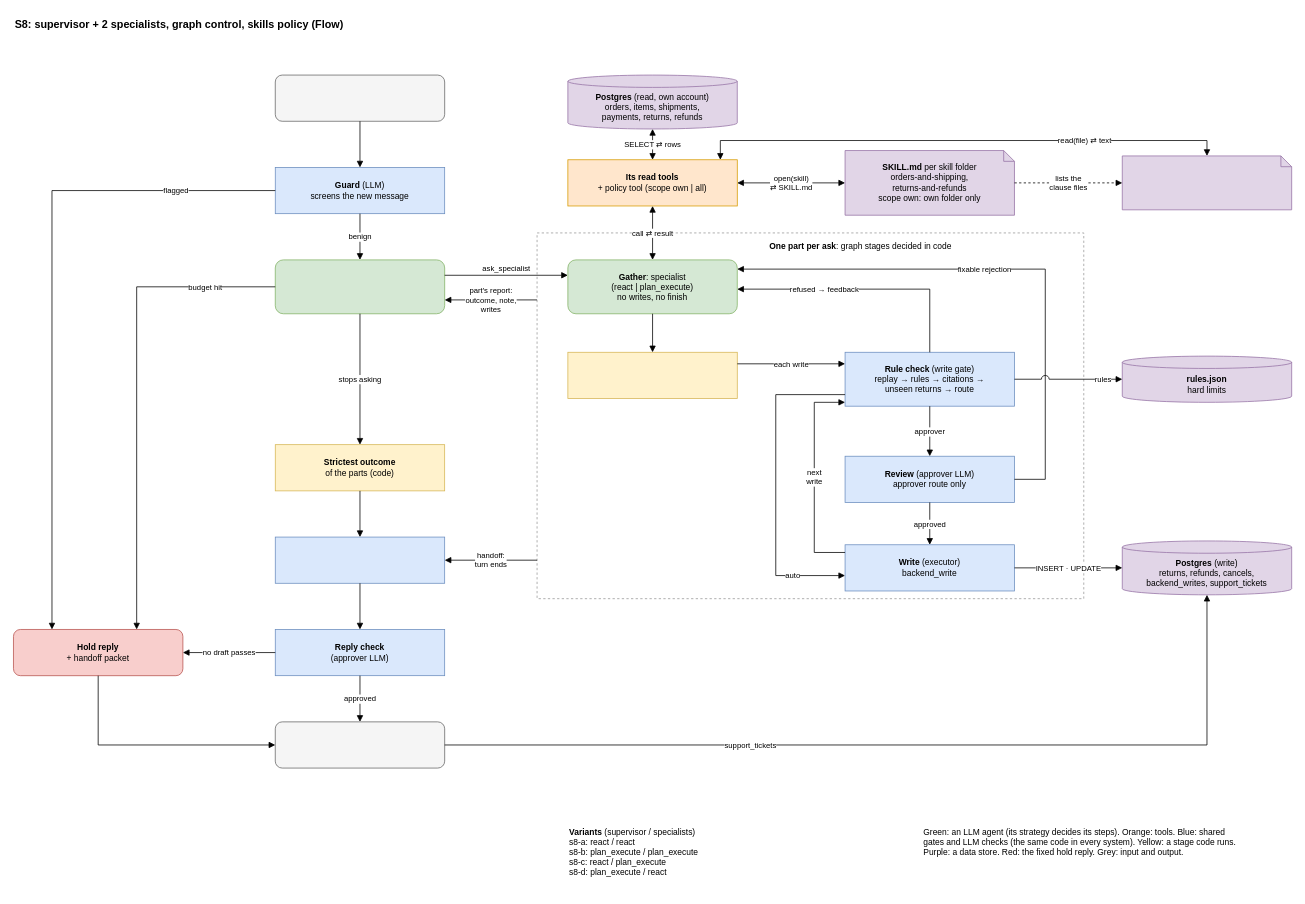
The diagram is 1305 pixels wide and 904 high, and some of its shapes have lost their labels. The shapes that lost their labels are listed below. From the top down, each one's centre as x and y in pixels, then its label:
At [360,97]: "Customer message + history (untrusted)".
At [1207,182]: "Clause files (.md) eligibility.md, refunds.md, tracking.md, …".
At [360,286]: "Supervisor (react | plan_execute) tool: ask_specialist only no finish".
At [652,375]: "Propose (structured) outcome, note, writes".
At [360,559]: "Reply writer (LLM) + wording checks (code)".
At [360,744]: "Ticket save (code) support_tickets".
